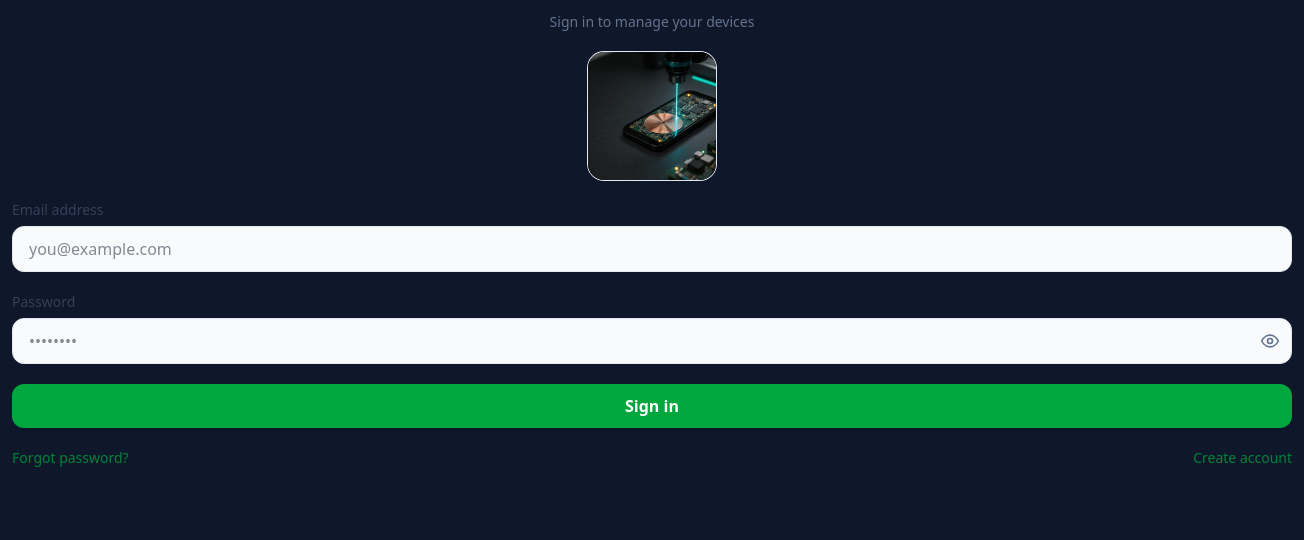
it: Login › shows an error banner when the service reports failure
In the field labelled "Email address": (652, 249) [12, 226, 1292, 272], type "ada@example.com"
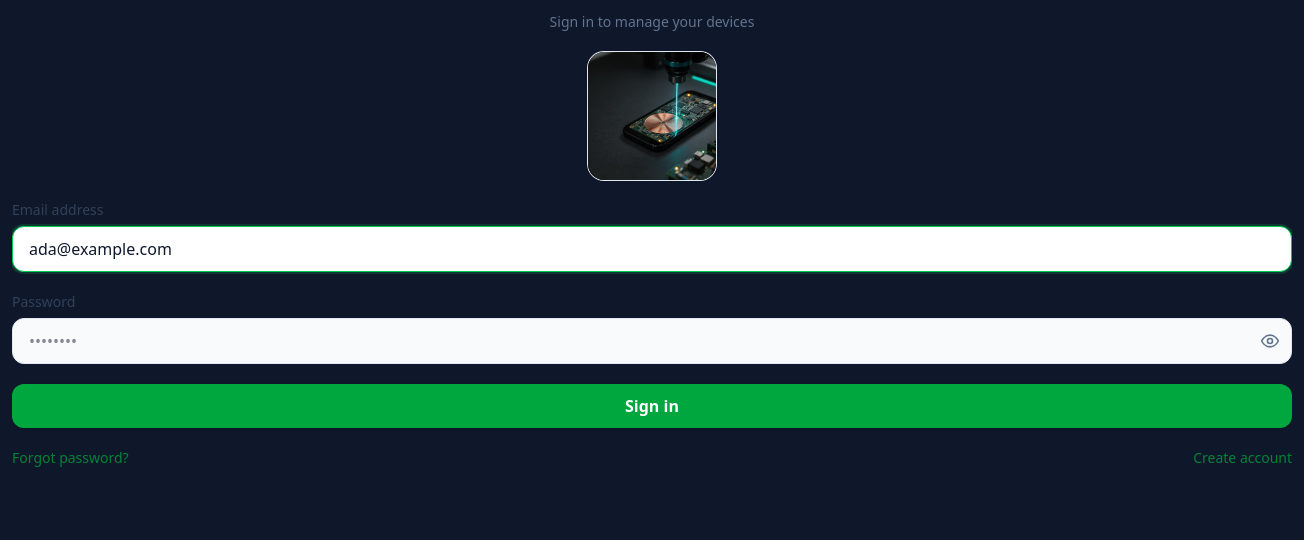
In the password field labelled "Password": (652, 341) [12, 318, 1292, 364], type "secret123"
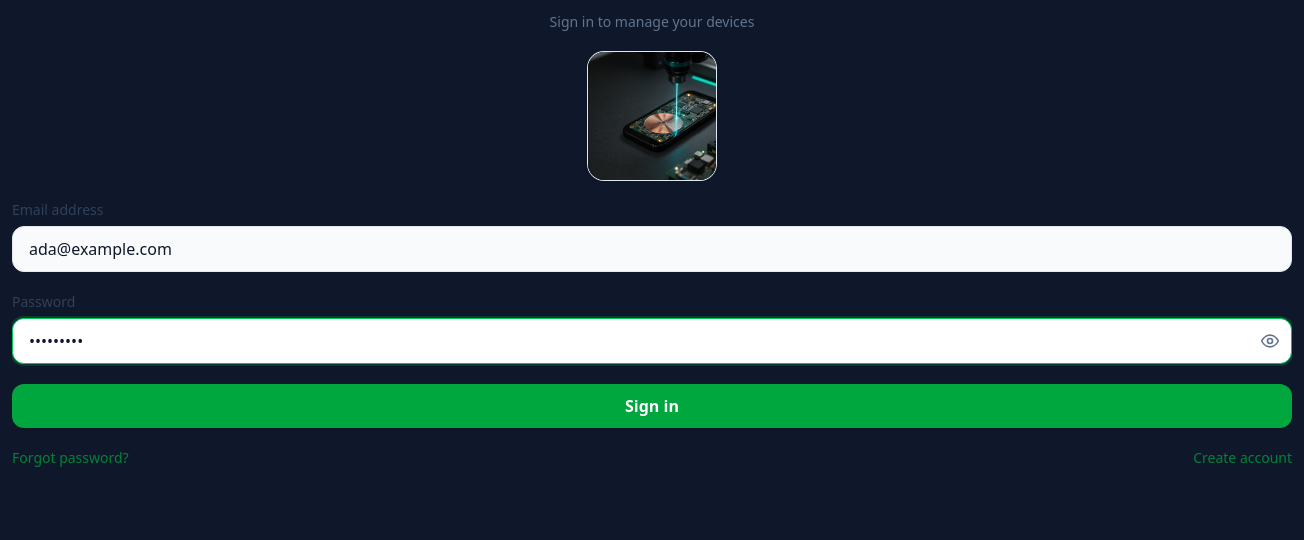
Click the button "Sign in": click(652, 406) [12, 384, 1292, 428]
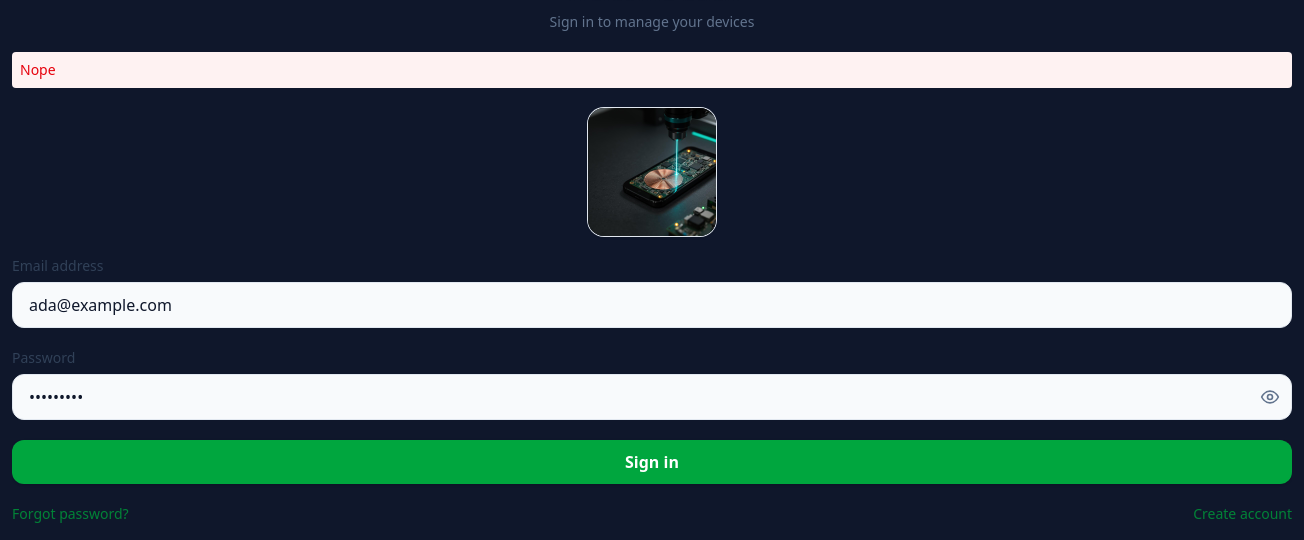
Expected: the message reads "Nope", [20, 60, 56, 79]
